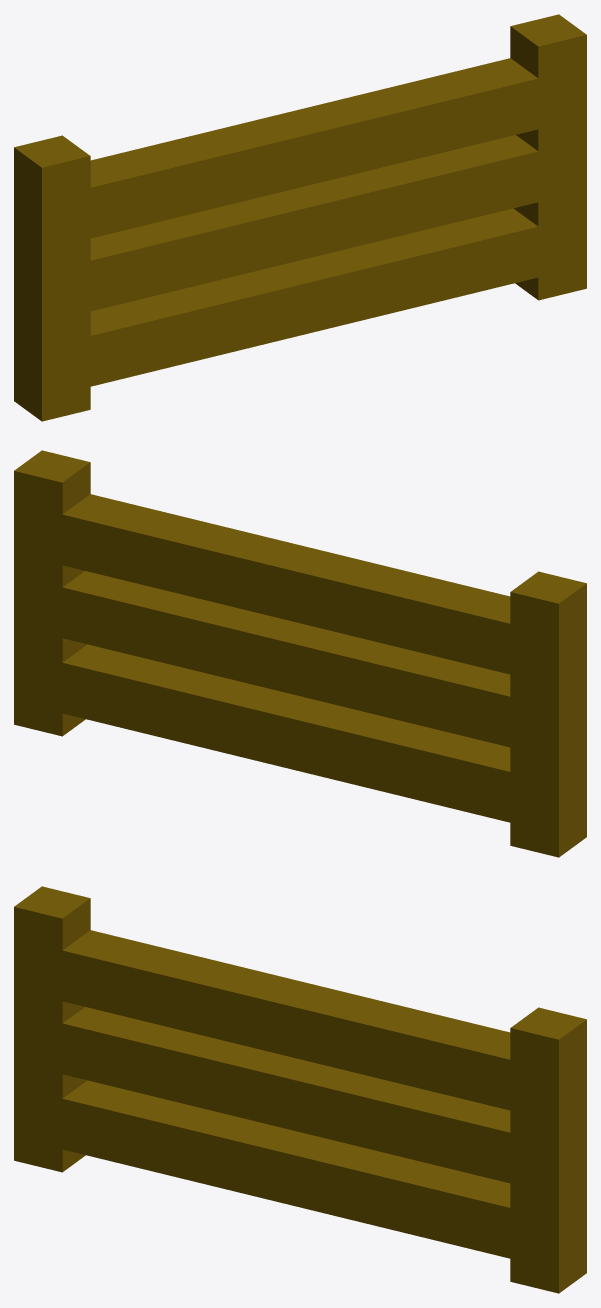
The model's file is wall2.fbx.
3 renders of one model, top to bottom at view 1: azimuth 30°, elevation 25°; view 2: azimuth 150°, elevation 25°; view 3: azimuth 330°, elevation 25°, orthographic.
Visible parts, largest first — view 1: pCube2, pCube1, pCube5, pCube3, pCube4; view 2: pCube2, pCube1, pCube5, pCube3, pCube4; view 3: pCube2, pCube1, pCube5, pCube4, pCube3.
Part boxes in pixels (<box>): pCube2: <box>79,58,563,240</box>; pCube1: <box>79,208,563,389</box>; pCube5: <box>79,135,563,311</box>; pCube3: <box>14,135,90,421</box>; pCube4: <box>510,14,586,300</box>; pCube2: <box>37,494,521,676</box>; pCube1: <box>37,644,510,822</box>; pCube5: <box>37,571,521,747</box>; pCube3: <box>510,571,586,857</box>; pCube4: <box>14,450,90,736</box>; pCube2: <box>51,930,535,1116</box>; pCube1: <box>51,1080,535,1260</box>; pCube5: <box>51,1007,512,1183</box>; pCube4: <box>510,1007,586,1293</box>; pCube3: <box>14,886,90,1172</box>.
Bounding box in the file's own units: 11.24 × 5 × 1.
